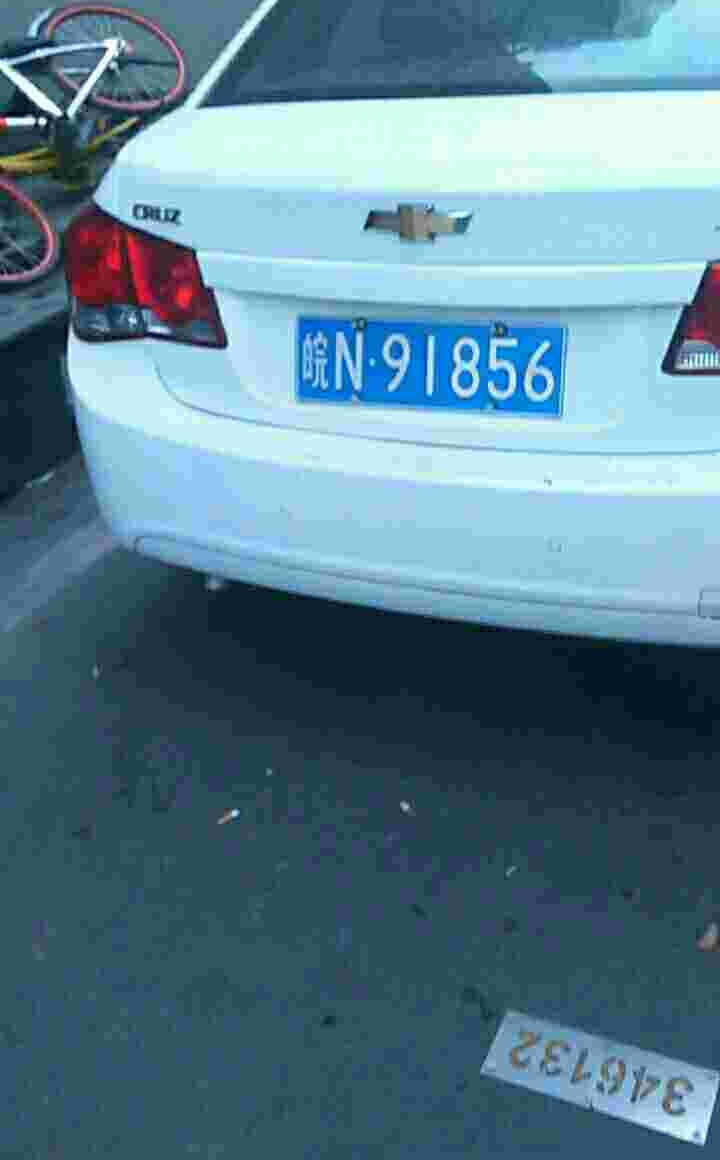license_plate: (299, 323, 571, 414)
